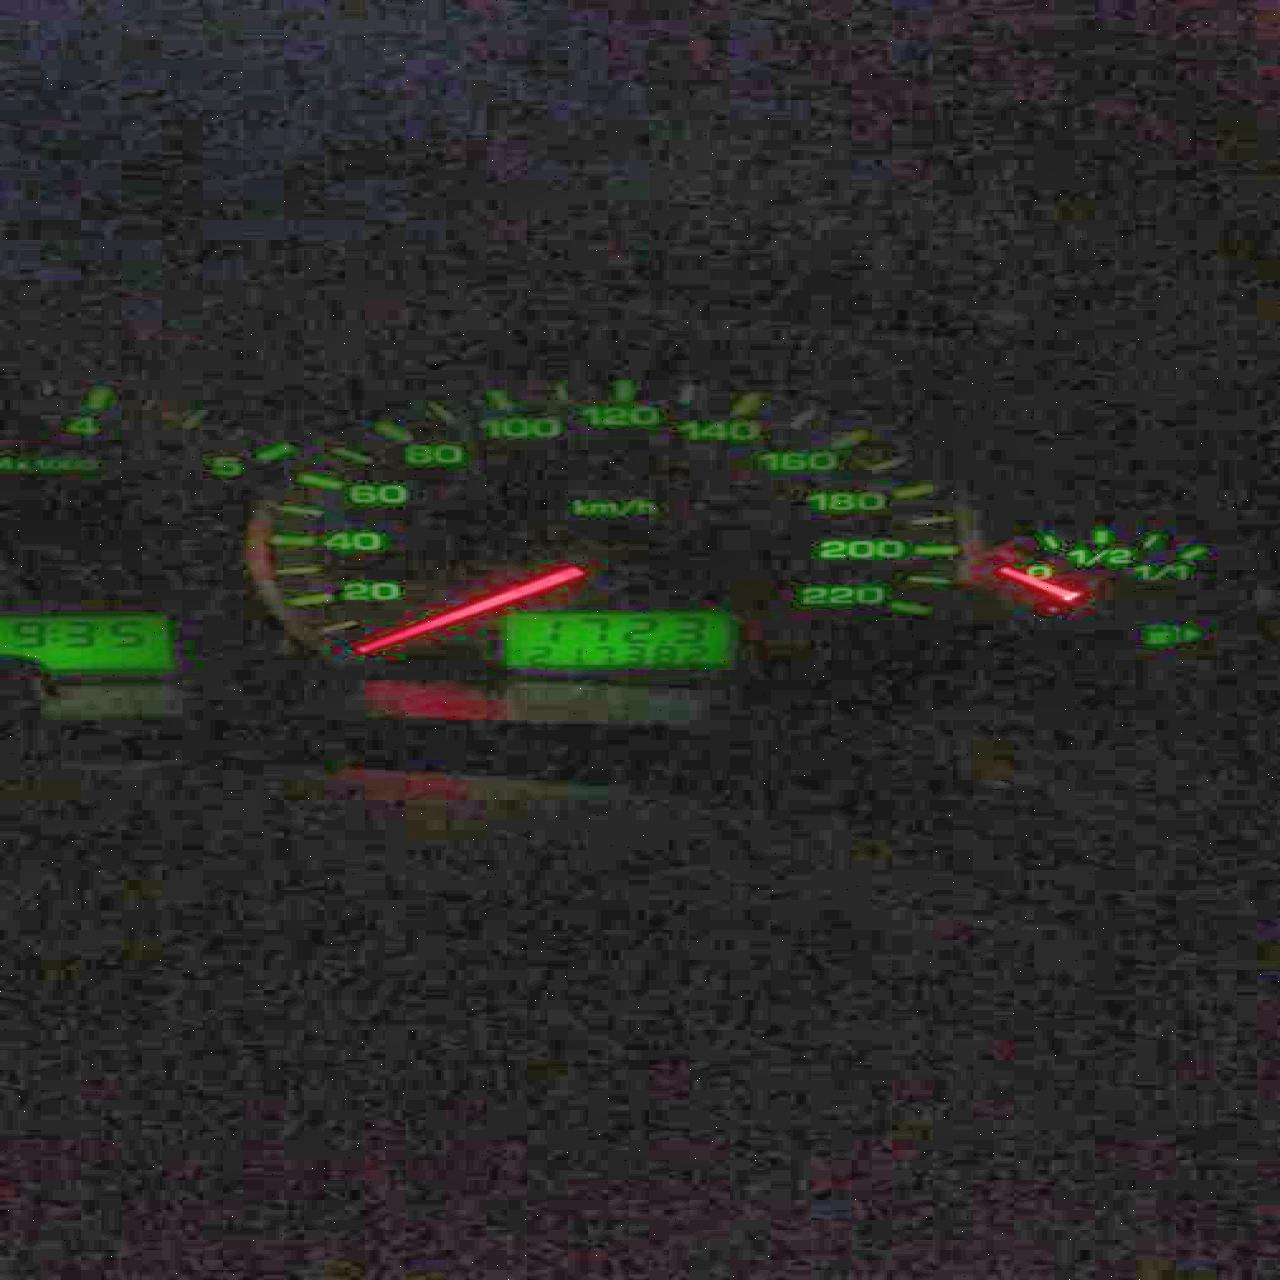-: (656, 638, 667, 644)
1: (545, 619, 560, 640), (570, 646, 583, 663)
2: (618, 618, 654, 644), (679, 644, 704, 663), (525, 645, 550, 663)
3: (669, 615, 704, 644), (621, 644, 644, 663)
7: (578, 617, 608, 641), (591, 645, 613, 663)
8: (652, 645, 676, 663)
odometer: (497, 610, 735, 669)
